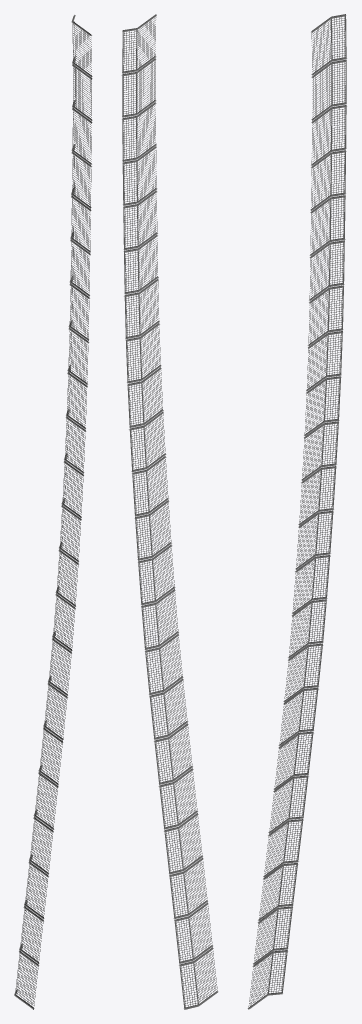
The model's file is _1WALL_small01_15_SUB1_Scene.321.obj.
3 views of the same model, side by side, from view 1: azimuth 30°, elevation 25°; view 2: azimuth 150°, elevation 25°; view 3: azimuth 330°, elevation 25° (orthographic). The views are drawn at different scales.
Parts seen in each view (by area): view 1: _1WALL_small01_15_SUB1_Scene.321; view 2: _1WALL_small01_15_SUB1_Scene.321; view 3: _1WALL_small01_15_SUB1_Scene.321.
Boxes of the visible parts, x1,y1,x2,y2 form: _1WALL_small01_15_SUB1_Scene.321: (14, 15, 92, 1009); _1WALL_small01_15_SUB1_Scene.321: (121, 14, 218, 1009); _1WALL_small01_15_SUB1_Scene.321: (247, 14, 346, 1009).
Bounding box in the file's own units: 3.37 × 43.98 × 2.23.
